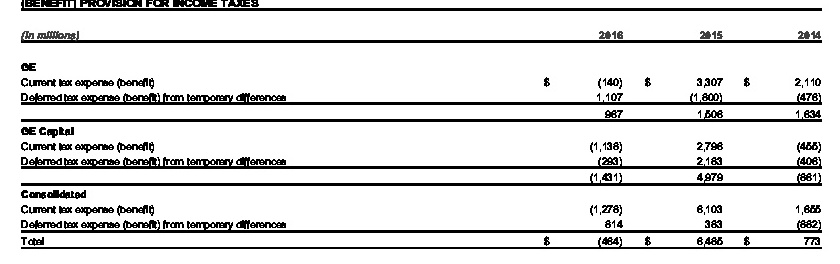table: (0, 0, 840, 264)
